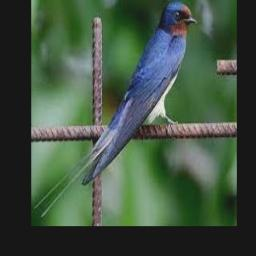Swallow: (34, 2, 197, 218)
